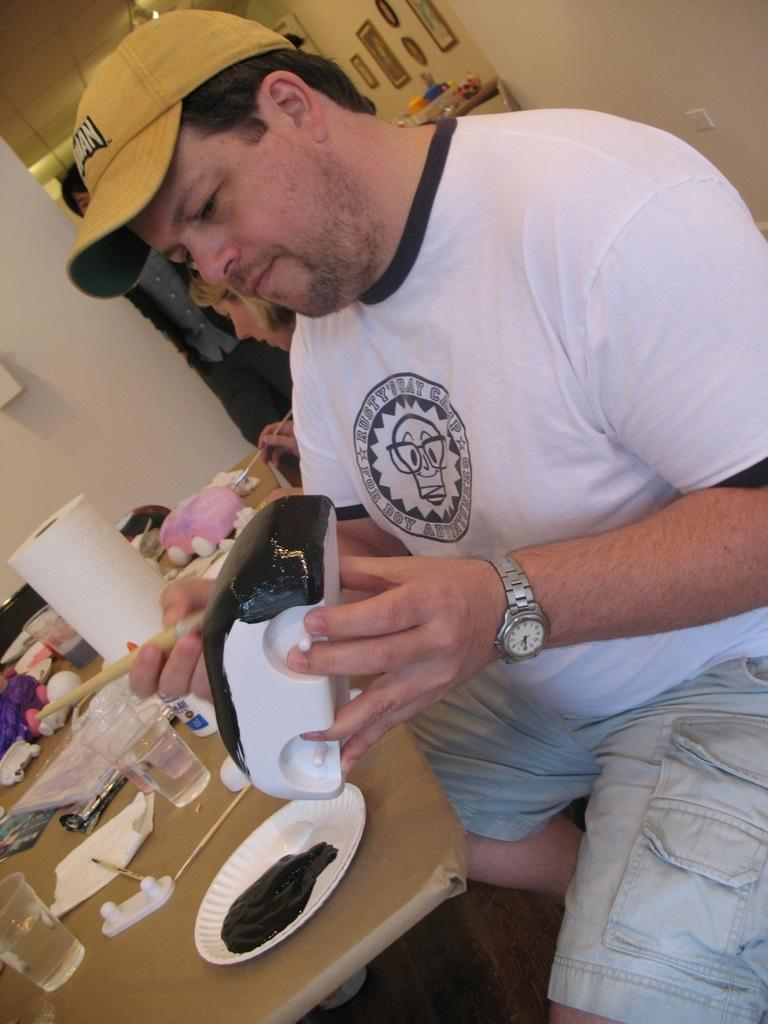Hat: (61, 4, 302, 304)
